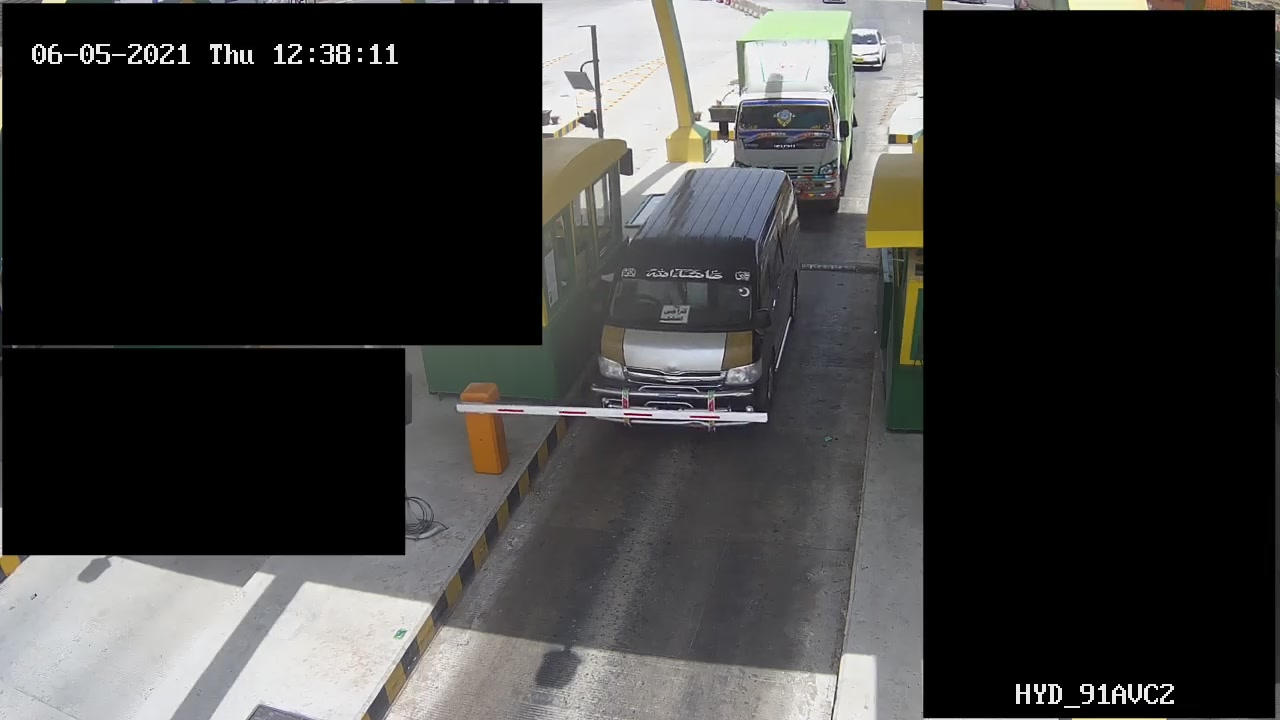F2: (599, 163, 808, 423)
